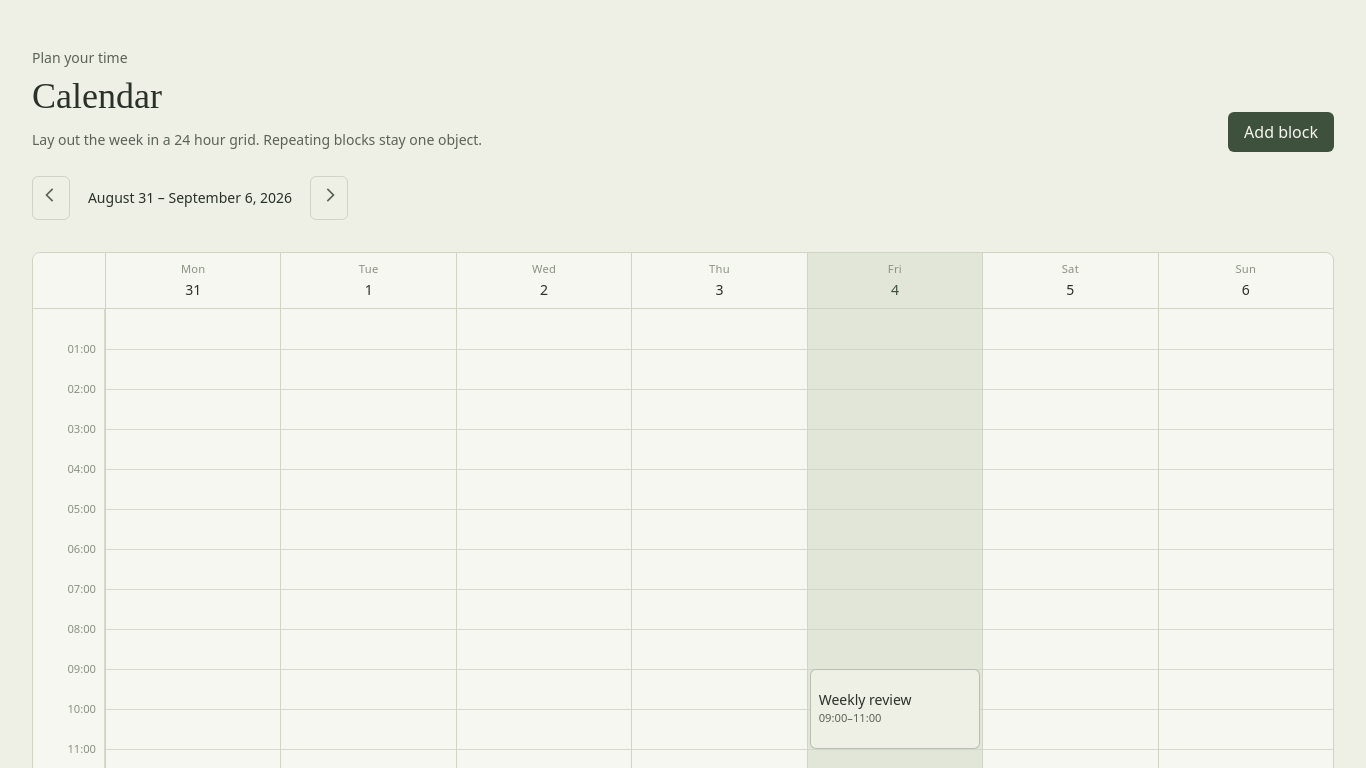
CalendarPage › edits a repeating block with a single patch and refreshes the week
The width and height of the screenshot is (1366, 768).
Click the button with aria-label "Weekly review, 09:00–11:00" at [895, 709], box [810,669,980,749]
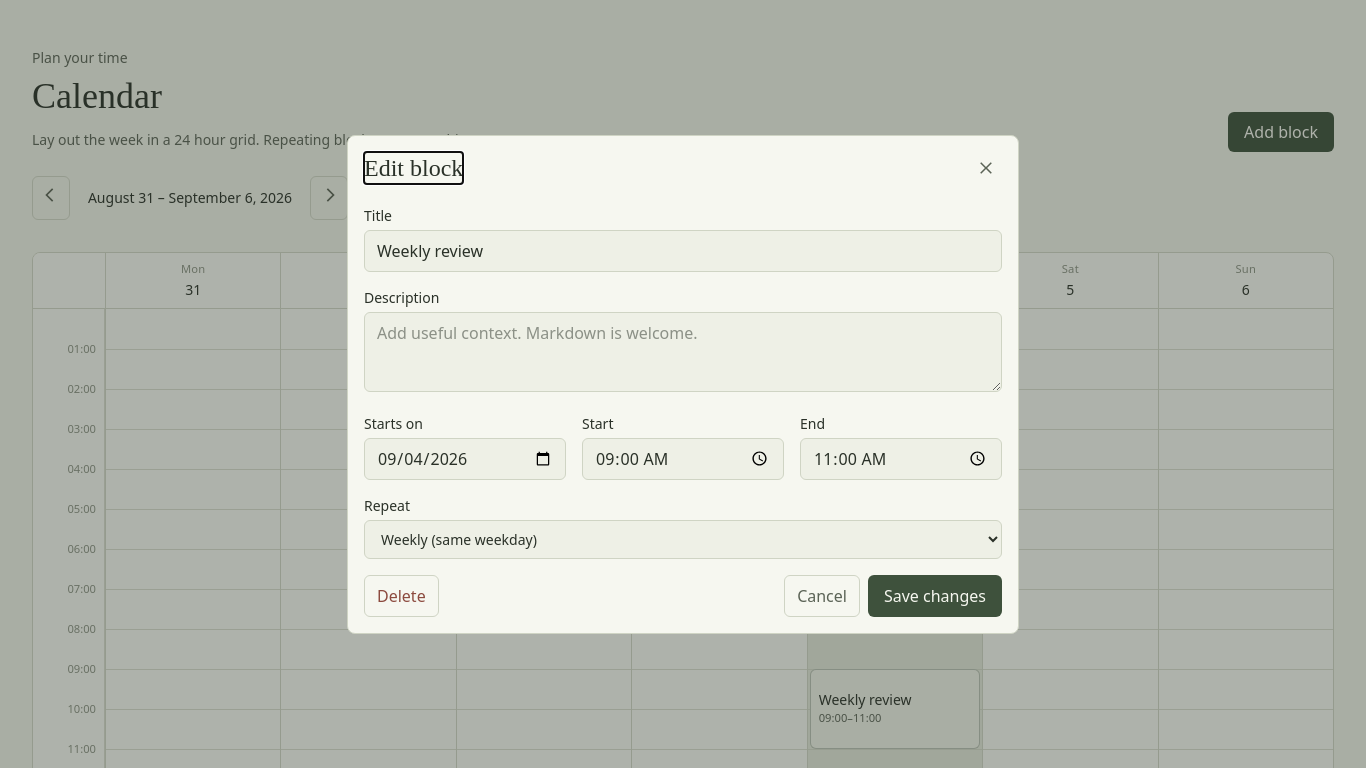
Expected: the dialog "Edit block" is shown, [347,134,1019,634]
Replace the text in the field labelled "Title" with "Monday review" at [683, 250], box [364,230,1002,272]
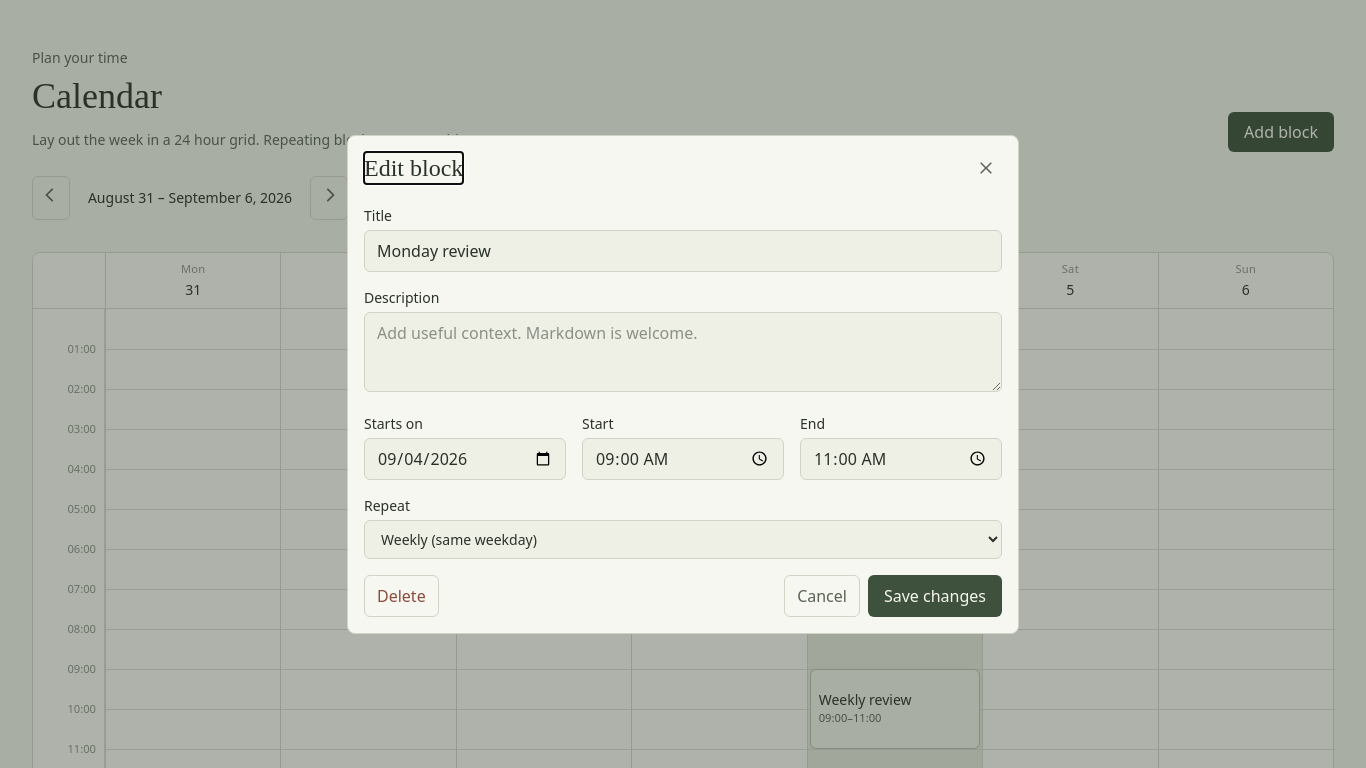
Click the button "Save changes" at [935, 596], box [868,574,1002,616]
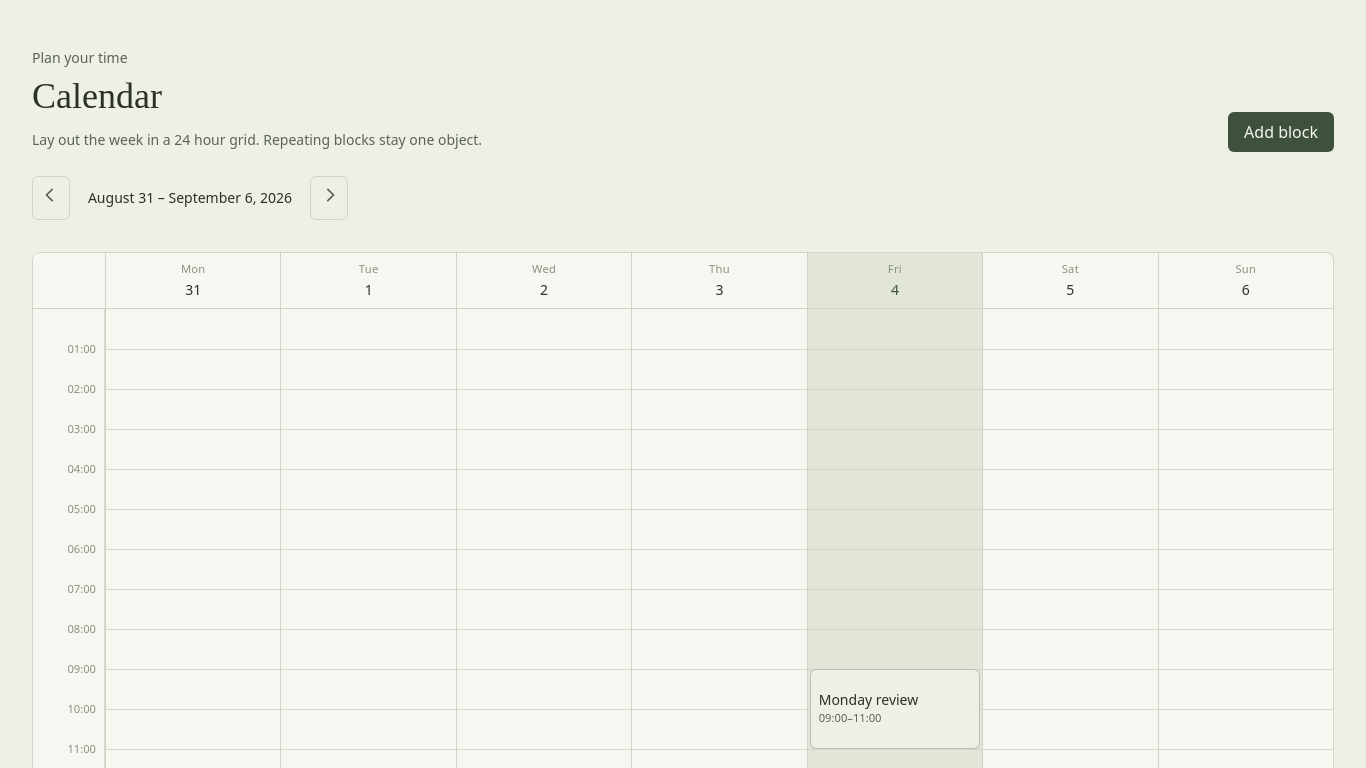
Expected: the button with aria-label "Monday review, 09:00–11:00" is shown, [810,669,980,749]
